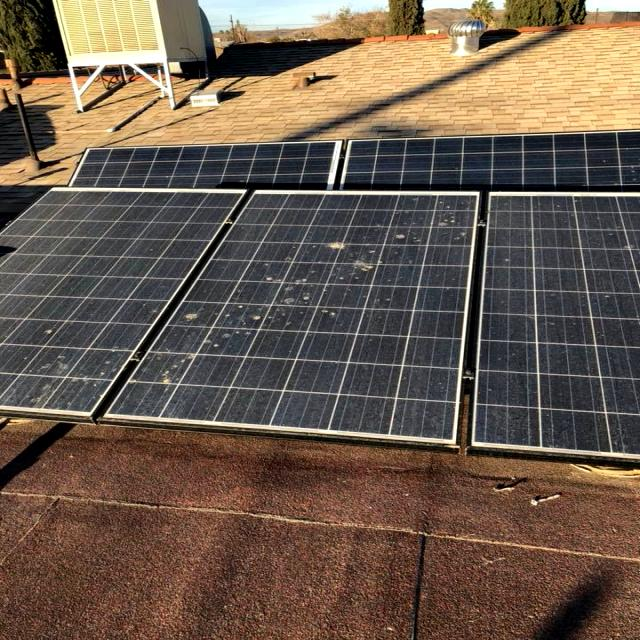dust: (167, 246, 328, 374), (354, 198, 469, 292), (11, 340, 107, 408)
